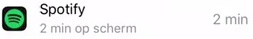name: (34, 1, 91, 19)
time: (37, 22, 73, 38)
